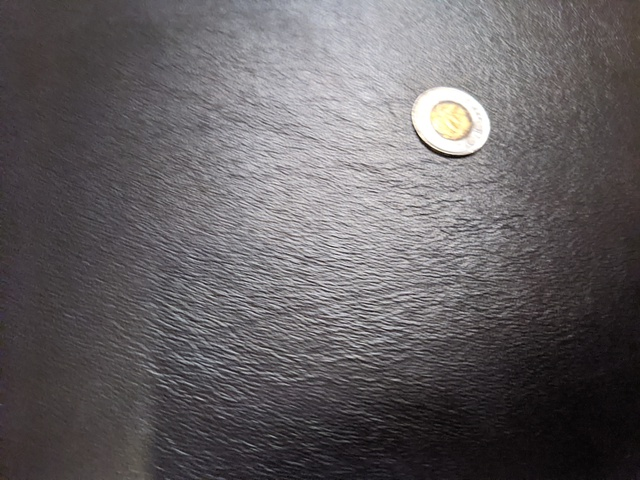twonie: (398, 94, 488, 167)
